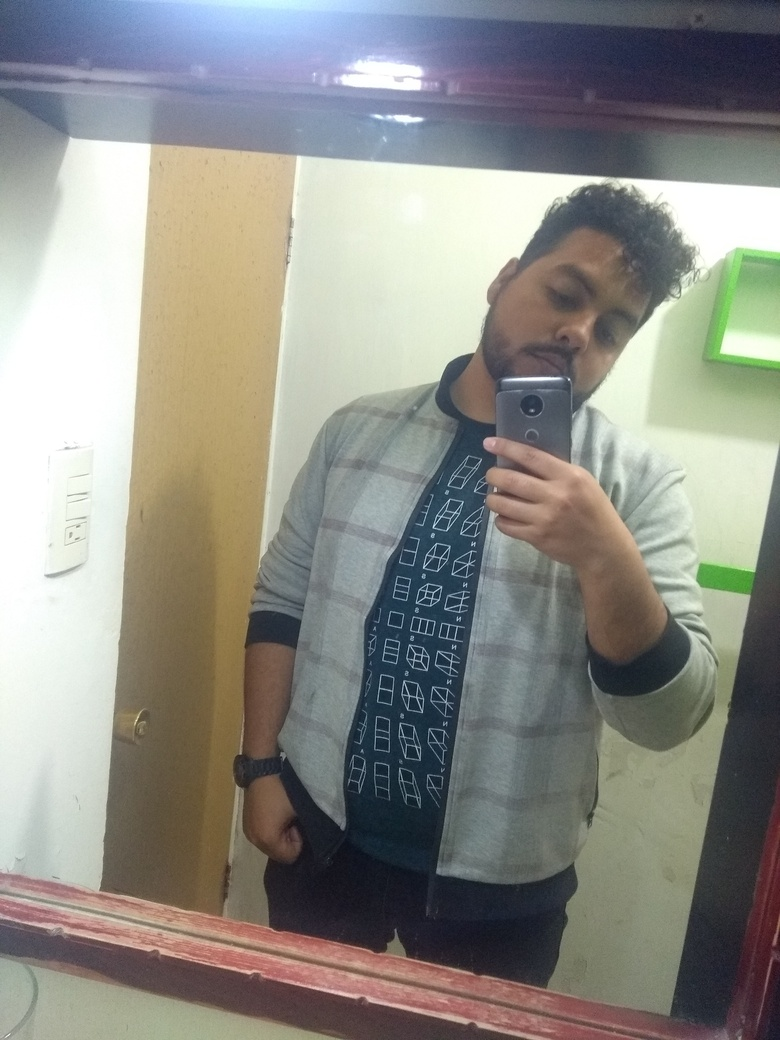Yoshi: (419, 138, 703, 442)
